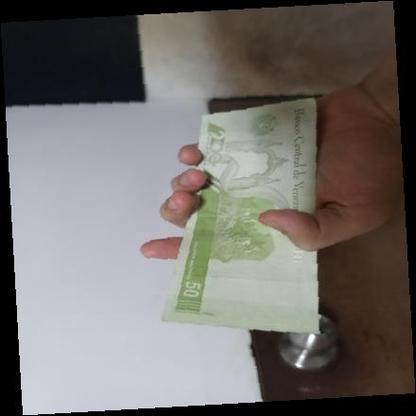dollar_back: (161, 97, 318, 334)
